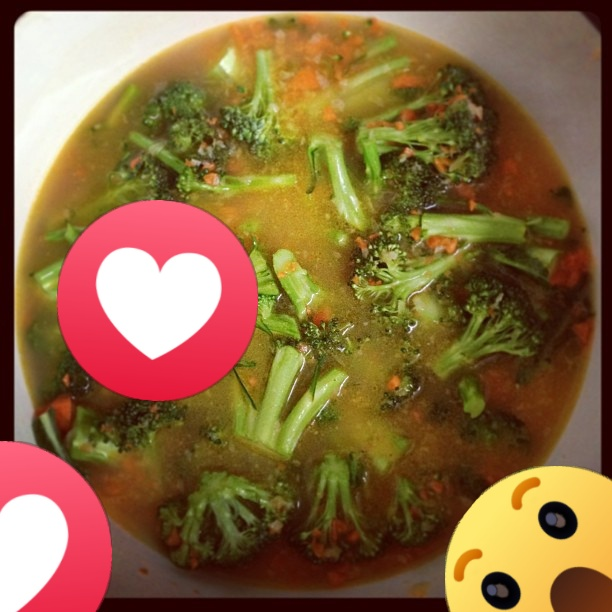love: (57, 200, 258, 401), (0, 441, 112, 612)
wow: (445, 466, 612, 612)
